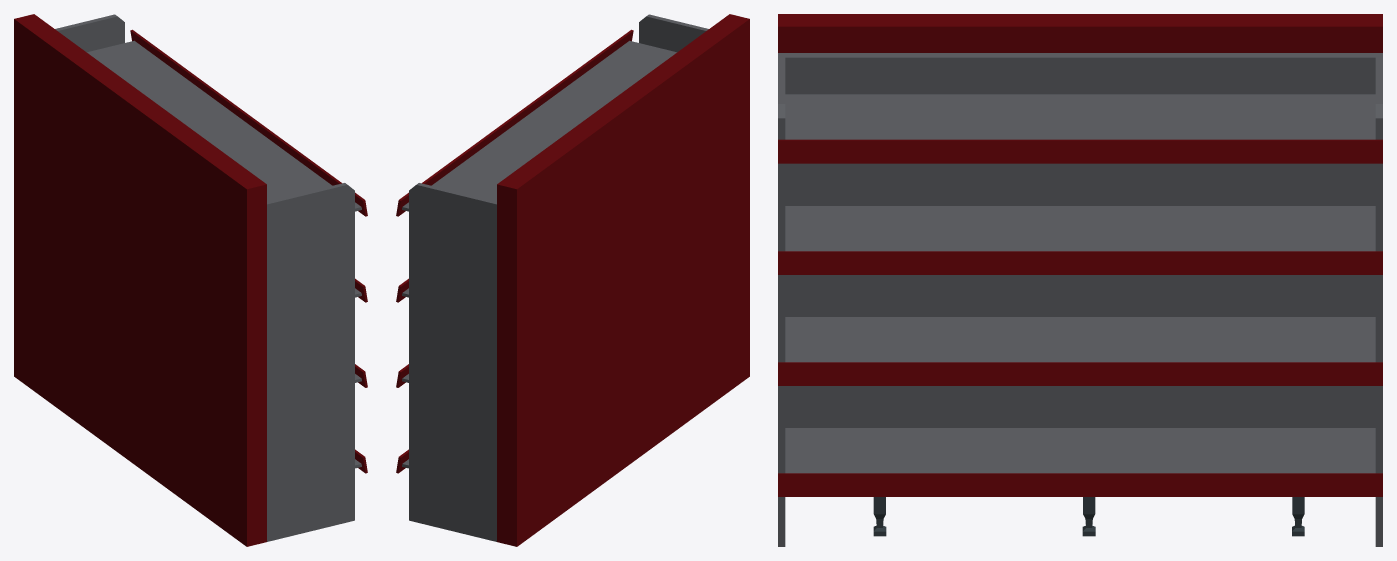
The model's file is ProductShelf01.fbx.
3 views of the same model, side by side, from view 1: azimuth 30°, elevation 25°; view 2: azimuth 150°, elevation 25°; view 3: azimuth 270°, elevation 25° (orthographic). The views are drawn at different scales.
Parts seen in each view (by area): view 1: ProductShelf01; view 2: ProductShelf01; view 3: ProductShelf01.
Boxes of the visible parts, bbox=[...] form: ProductShelf01: bbox=[14, 14, 367, 546]; ProductShelf01: bbox=[396, 14, 749, 546]; ProductShelf01: bbox=[778, 14, 1382, 546].
Size of the model in its own units: 75.03 by 212 by 250.
